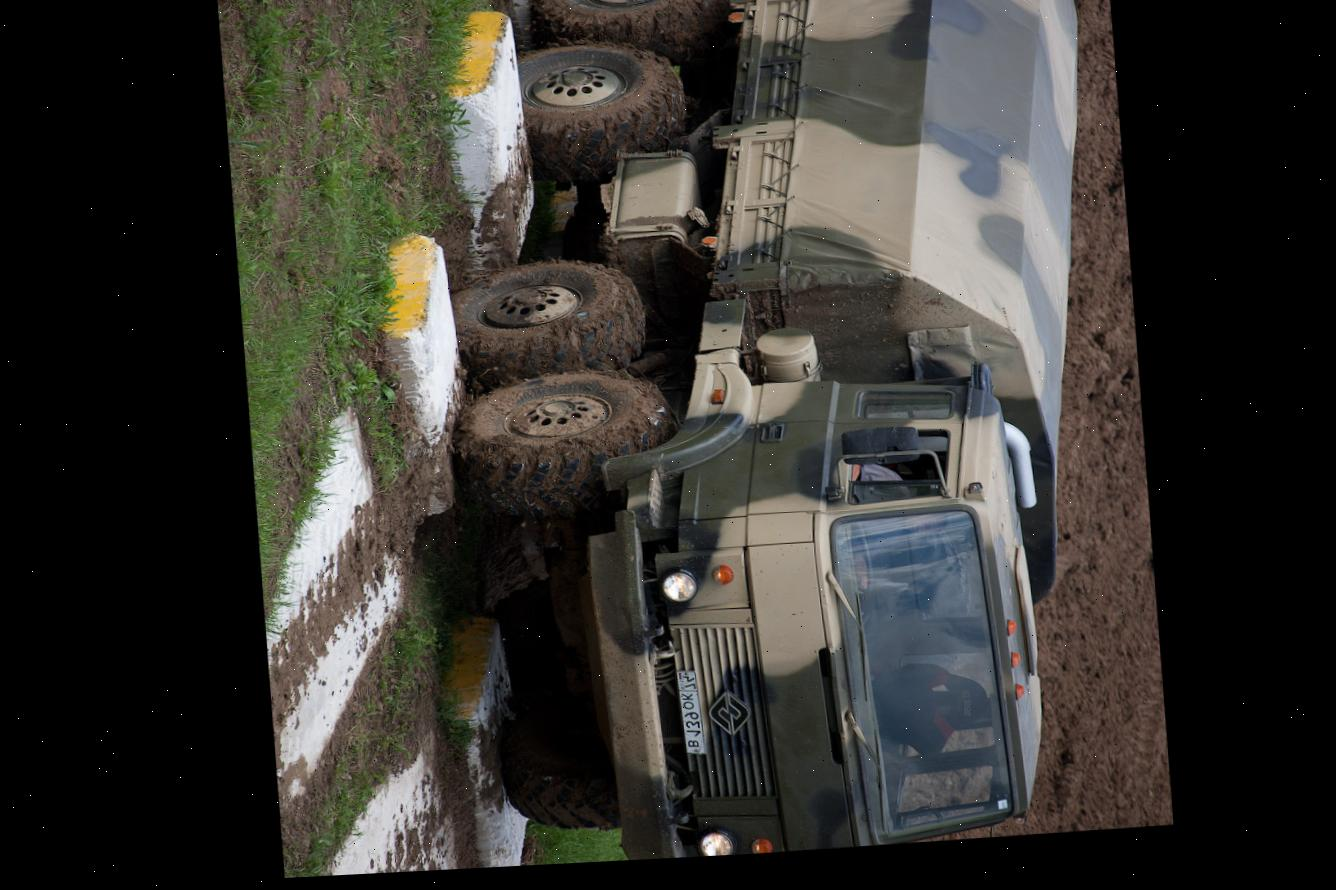truck: (411, 0, 1149, 869)
